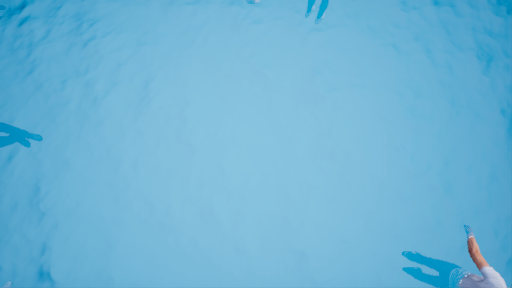person: (384, 226, 499, 288)
